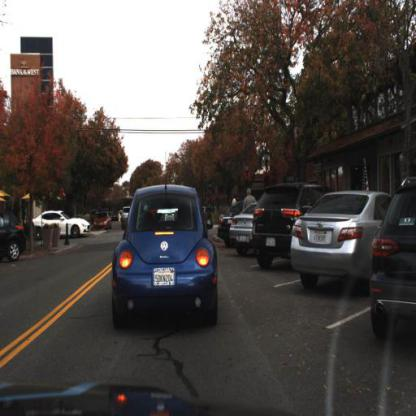car: (109, 183, 221, 332), (291, 190, 395, 295), (366, 175, 416, 345), (252, 184, 313, 271), (229, 198, 260, 258), (33, 210, 94, 238), (217, 198, 246, 251), (1, 212, 26, 261), (94, 210, 112, 233)
pedestrian: (243, 189, 257, 242)
